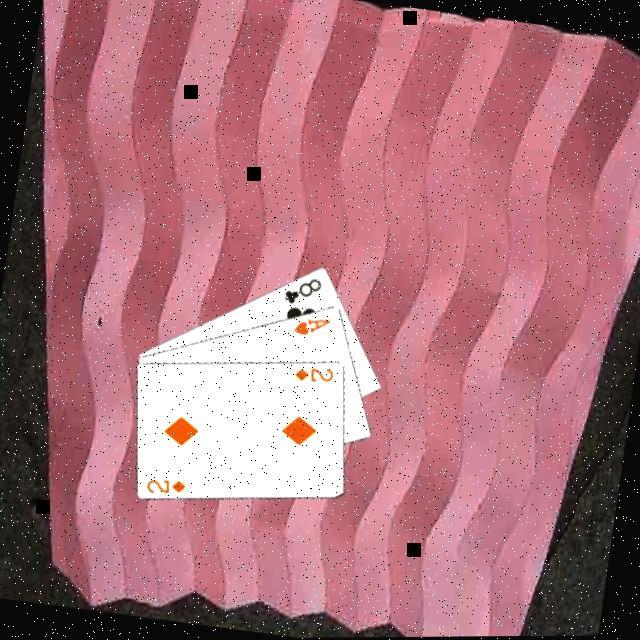2D: (143, 474, 191, 502), (291, 362, 338, 390)
8C: (282, 273, 327, 312)
AH: (291, 312, 335, 343)
